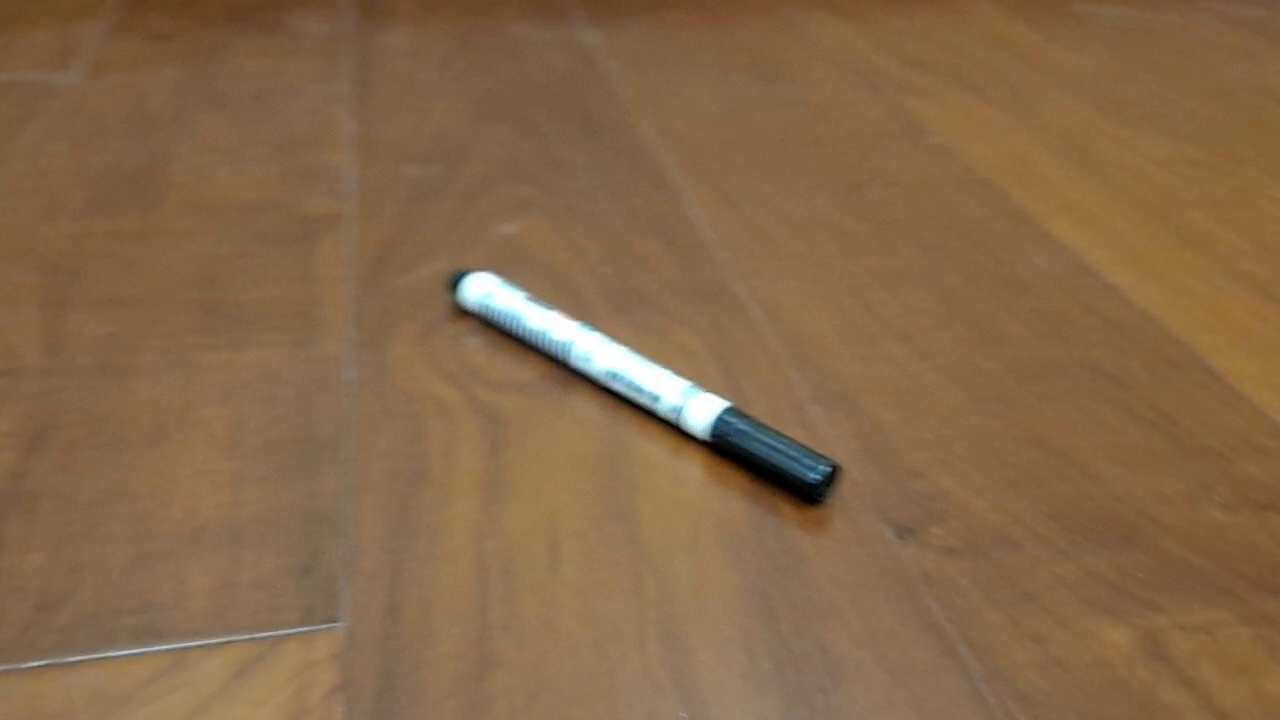pen: (445, 267, 844, 508)
